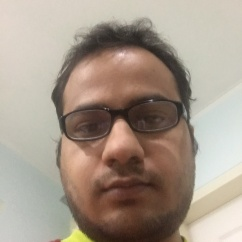glasses: (53, 100, 193, 137)
